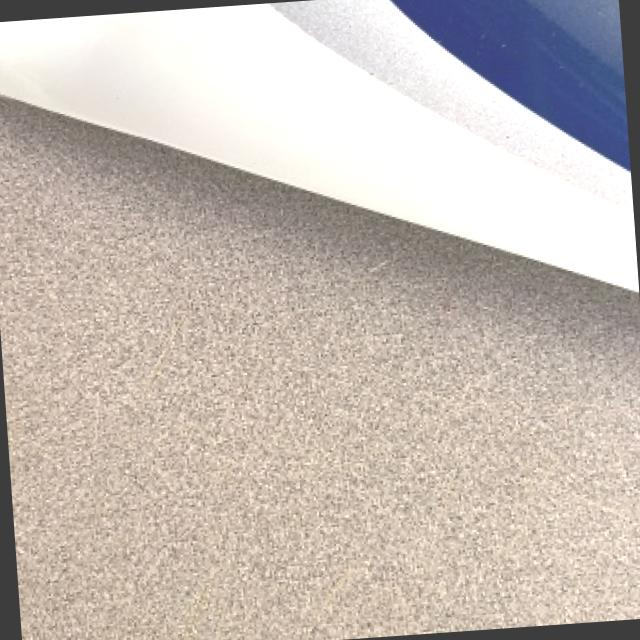healthy: (0, 92, 640, 640), (0, 0, 634, 223)
